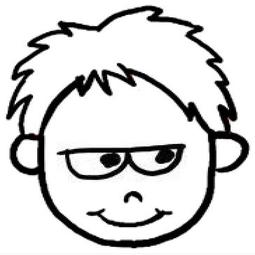ear: (209, 133, 253, 172), (6, 133, 45, 174)
eye: (64, 141, 127, 180), (126, 140, 189, 177)
mouth: (82, 206, 176, 228)
nose: (113, 187, 147, 206)
